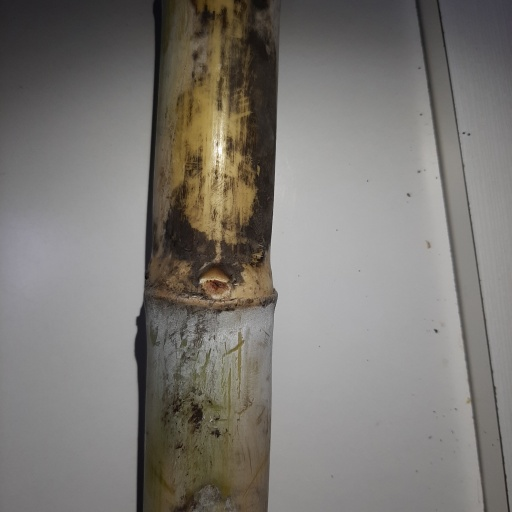Damage_Bud: (199, 269, 234, 300)
